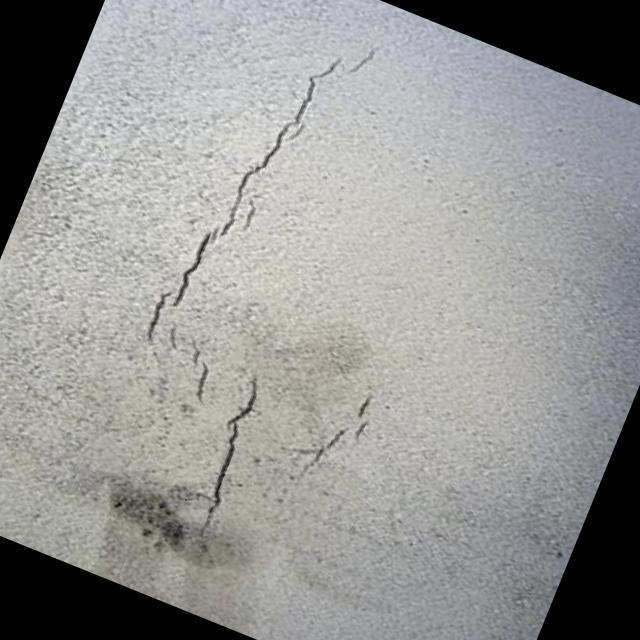defect: (142, 46, 380, 405), (196, 375, 261, 540), (305, 390, 379, 469)
